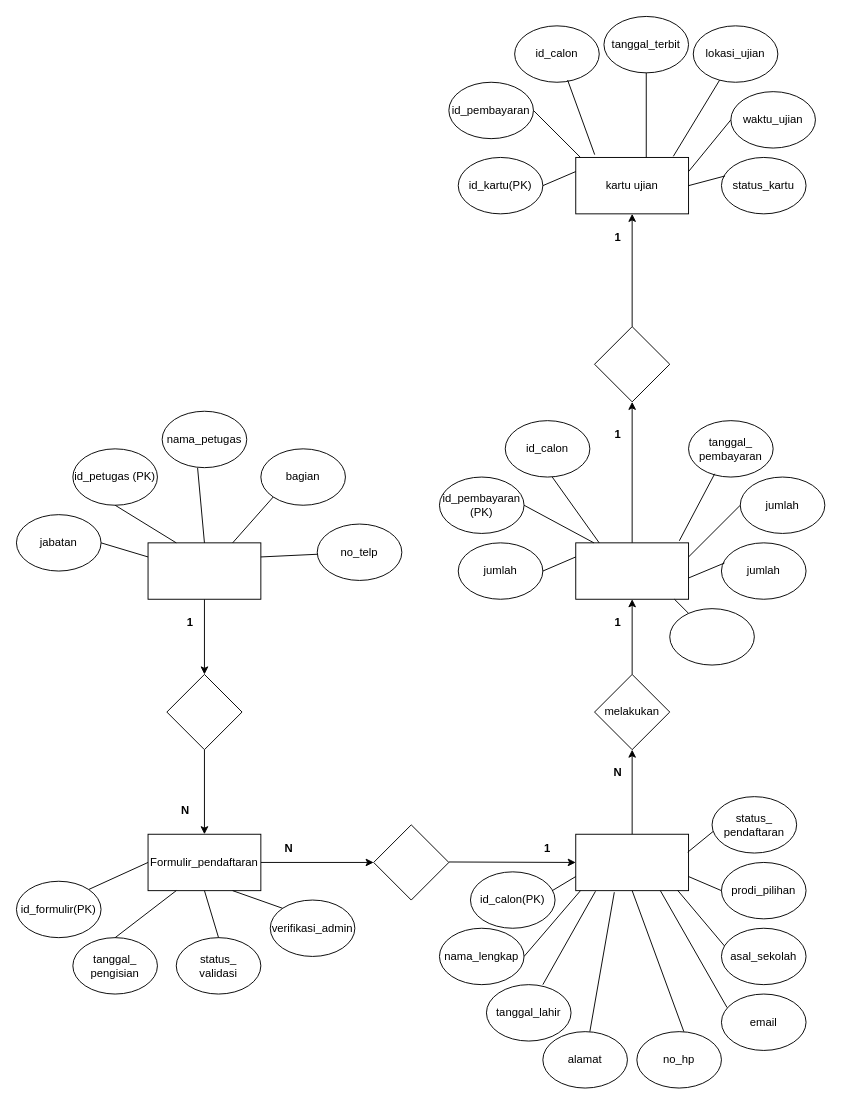
Some shapes in this 841 by 1105 pixel diagram are drawn without their labels. The shapes that lost their labels are listed below. From the top down, each one's box as (x1, y1, x2, y2) in pixels, then its label:
(594, 326, 670, 402): menerbitkan
(147, 542, 261, 599): Petugas
(575, 542, 689, 599): pembayaran
(669, 608, 754, 665): id_petugas
(166, 674, 242, 750): memproses
(373, 824, 449, 900): diisi
(575, 833, 689, 891): calon_mahasiswa
